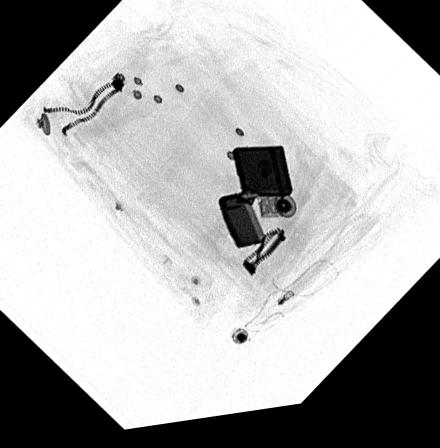Lighter: (216, 151, 298, 256)
